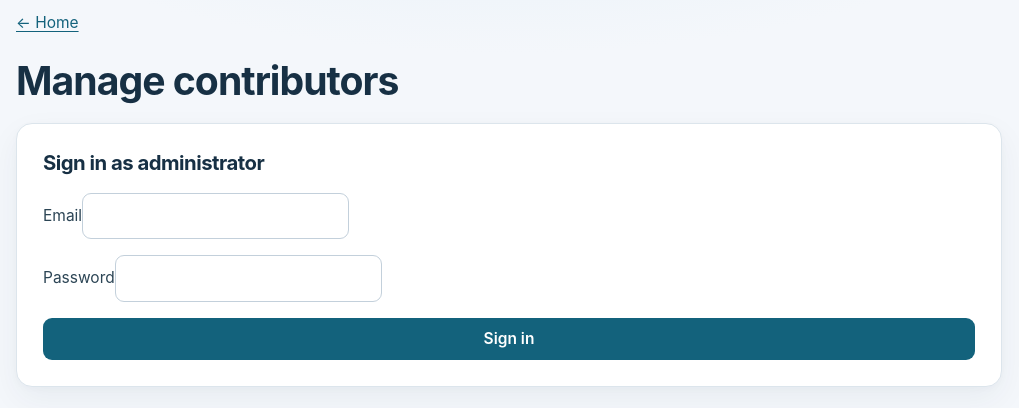
shows an admin-only message for students without making a privileged request
Type "student@example.test" into the field labelled "Email".
click(216, 216); type("student@example.test")  # box [82,193,349,239]
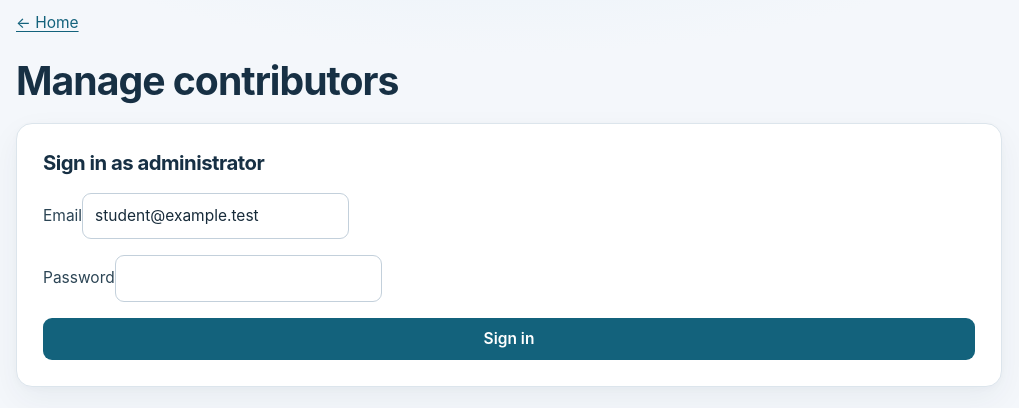
Type "Fixture123" into the password field labelled "Password".
click(248, 279); type("Fixture123")  # box [115,255,382,302]
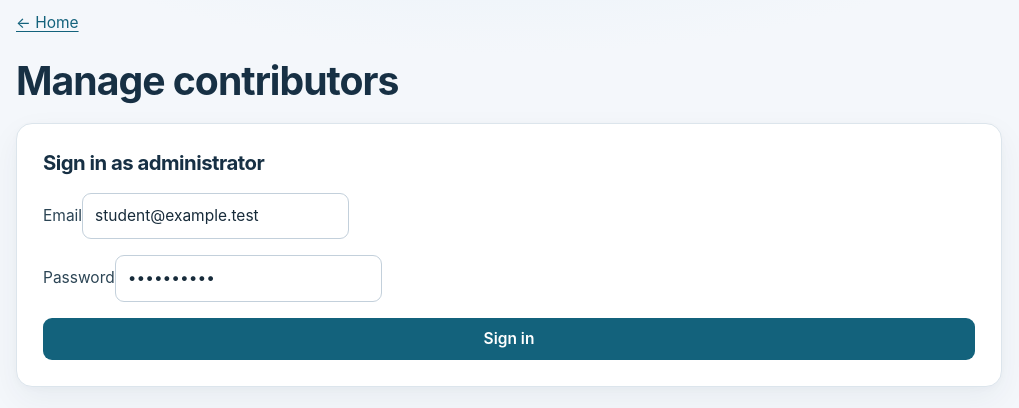
Click the button "Sign in".
click(509, 339)  # box [43,318,975,360]
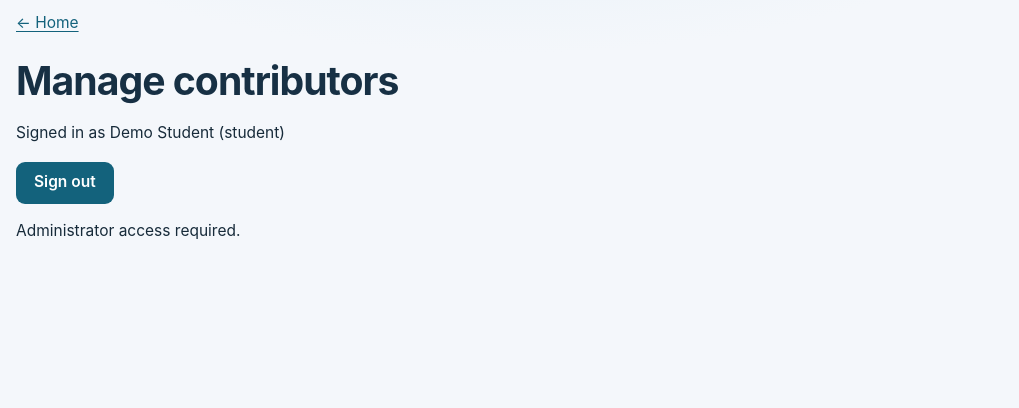
Expected: the message reads "Administrator access required.", [16,221,240,240]
